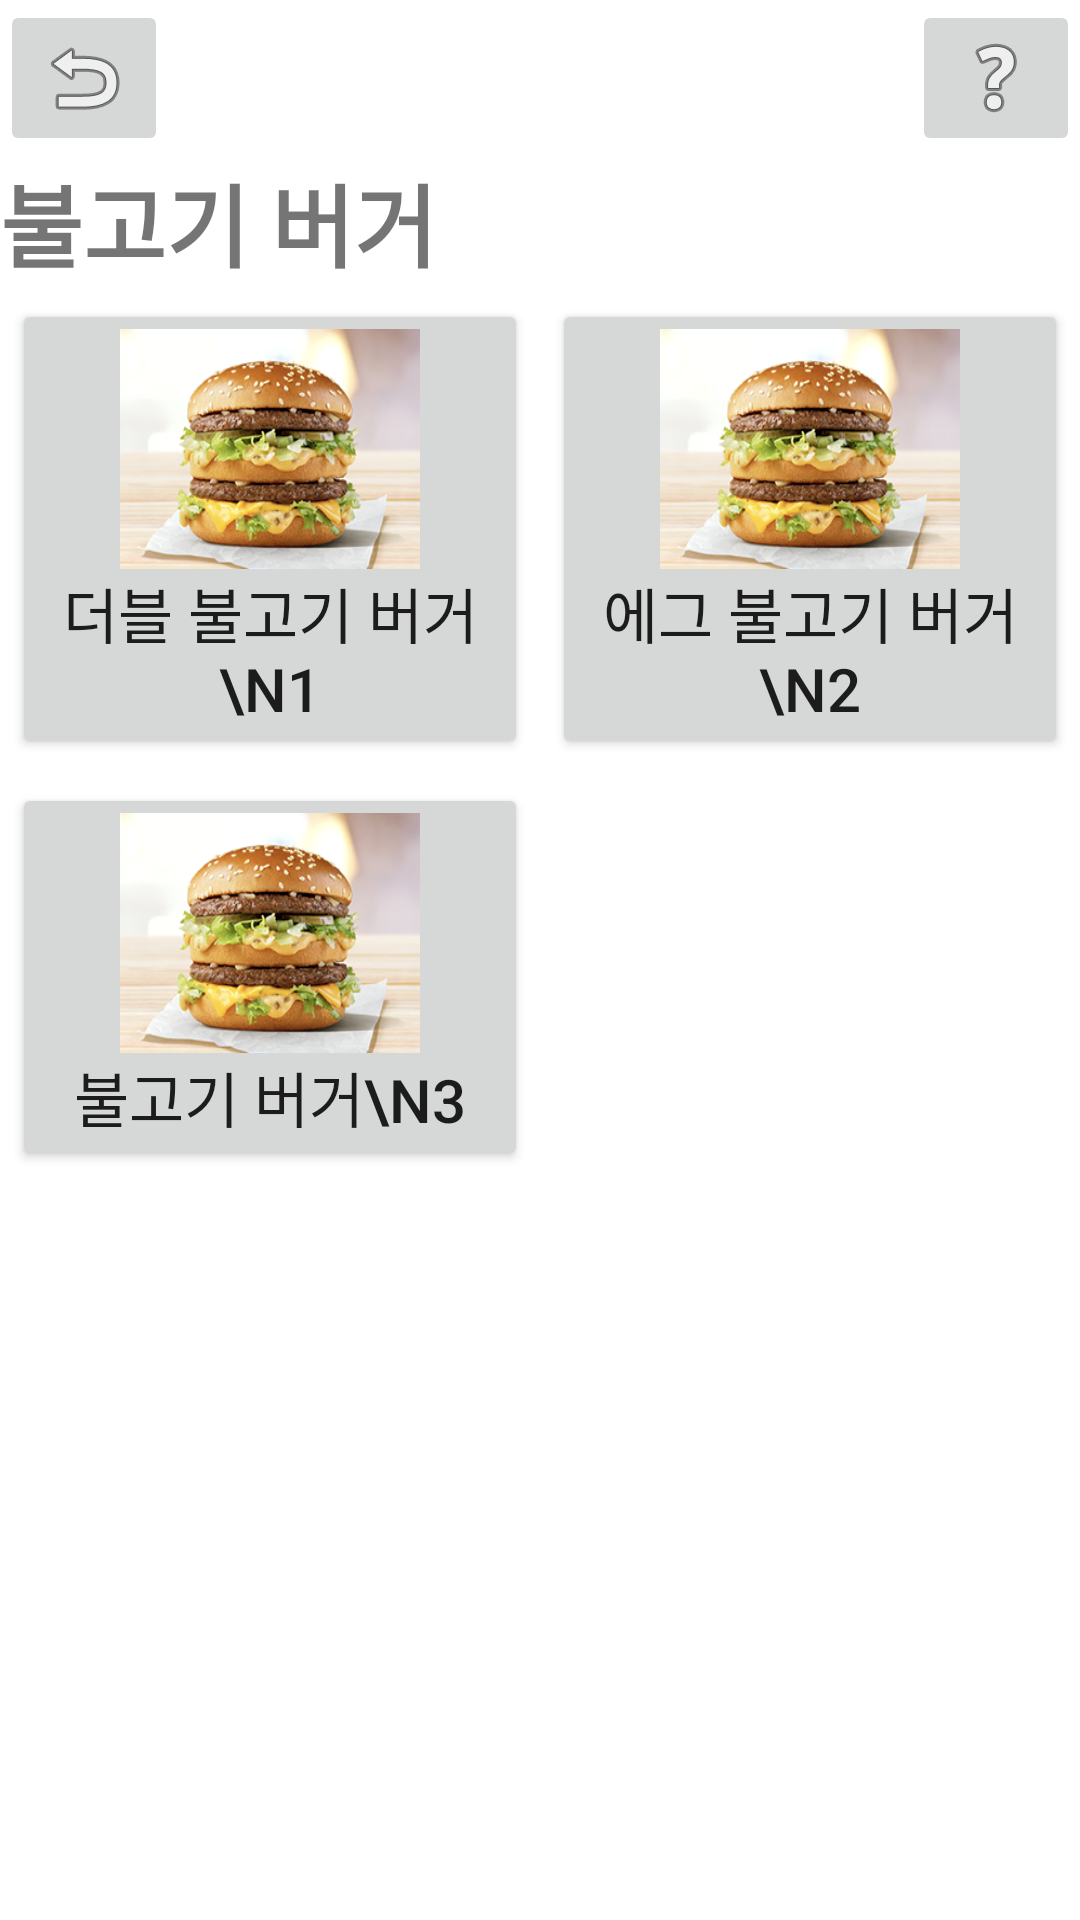

Where to tap for icons on this 1080×1920 app screen, as [x,y]:
help: [996,78]
revert: [84,78]
